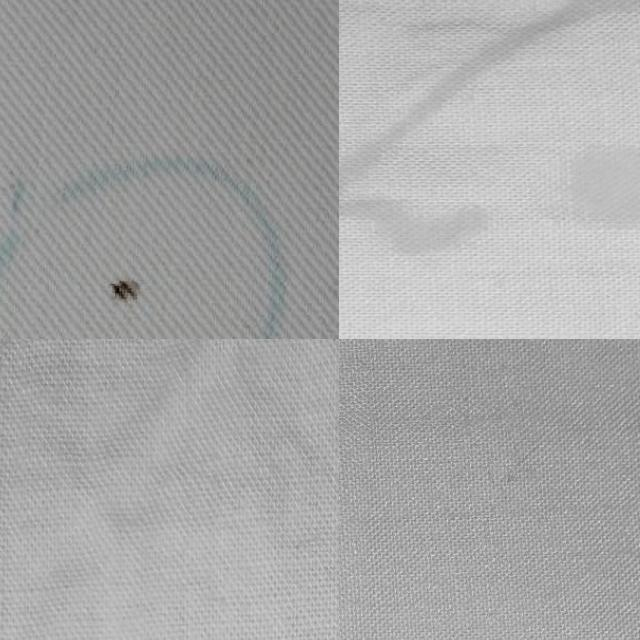Thread_other: (42, 238, 232, 339)
